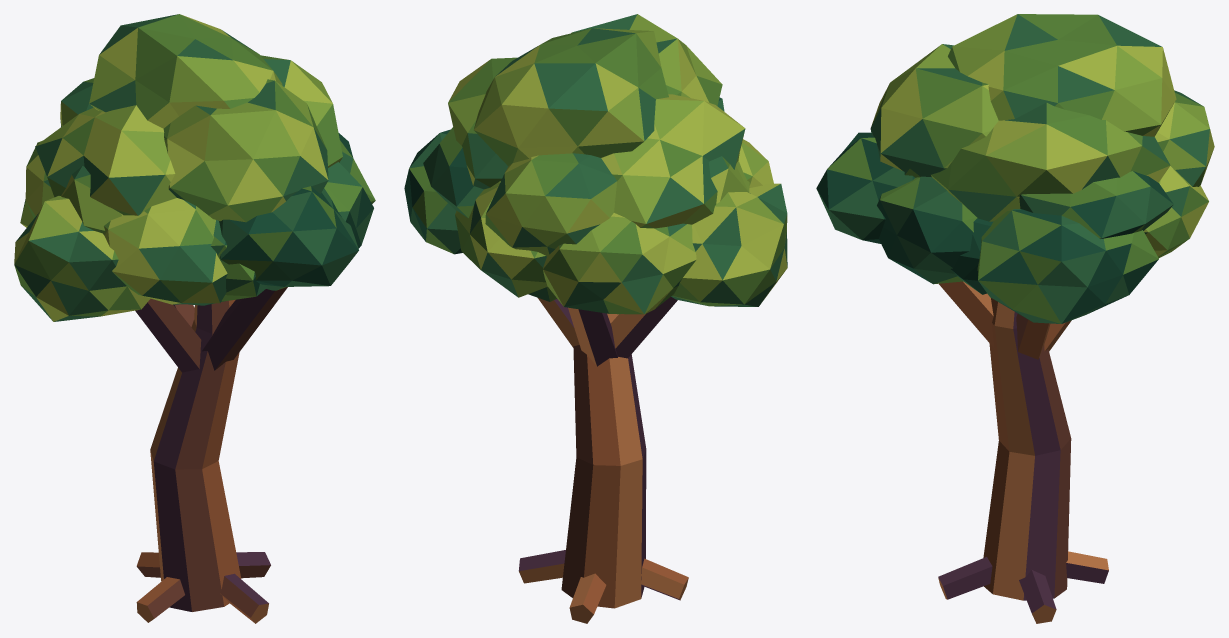
Rendered from grove_tree.glb.
3 views of the same model, side by side, from view 1: azimuth 30°, elevation 25°; view 2: azimuth 150°, elevation 25°; view 3: azimuth 270°, elevation 25° (orthographic).
Visible parts, largest first — view 1: grove_tree; view 2: grove_tree; view 3: grove_tree.
Part boxes in pixels (box(x1,y1,x2,y2)): grove_tree: box(14, 14, 375, 623); grove_tree: box(404, 14, 787, 623); grove_tree: box(816, 14, 1214, 623).
Bounding box in the file's own units: 7.07 × 10.83 × 6.94.
